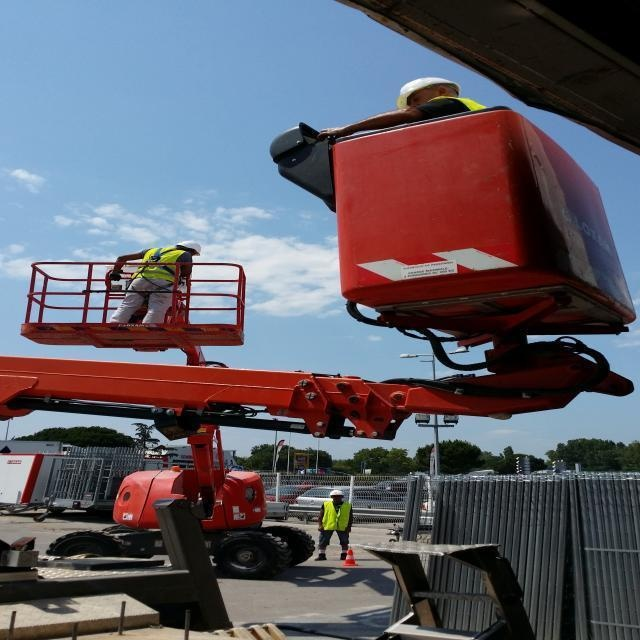Arnes_seguridad: (132, 245, 181, 300)
